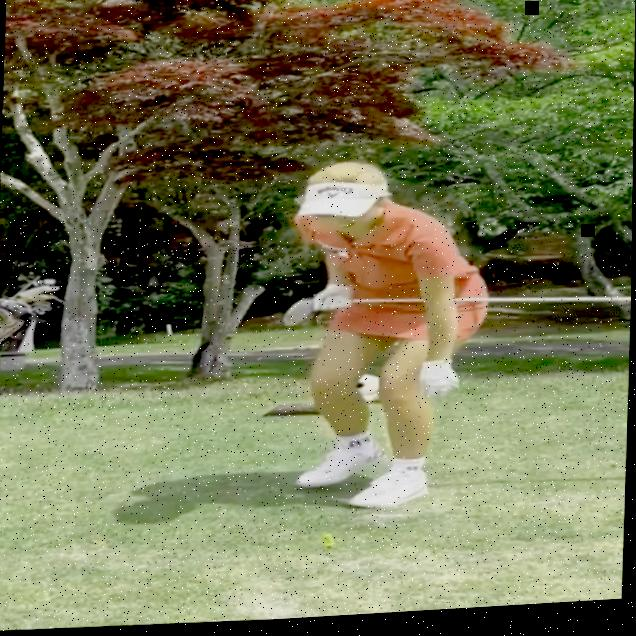ClubHead: (283, 300, 313, 330)
